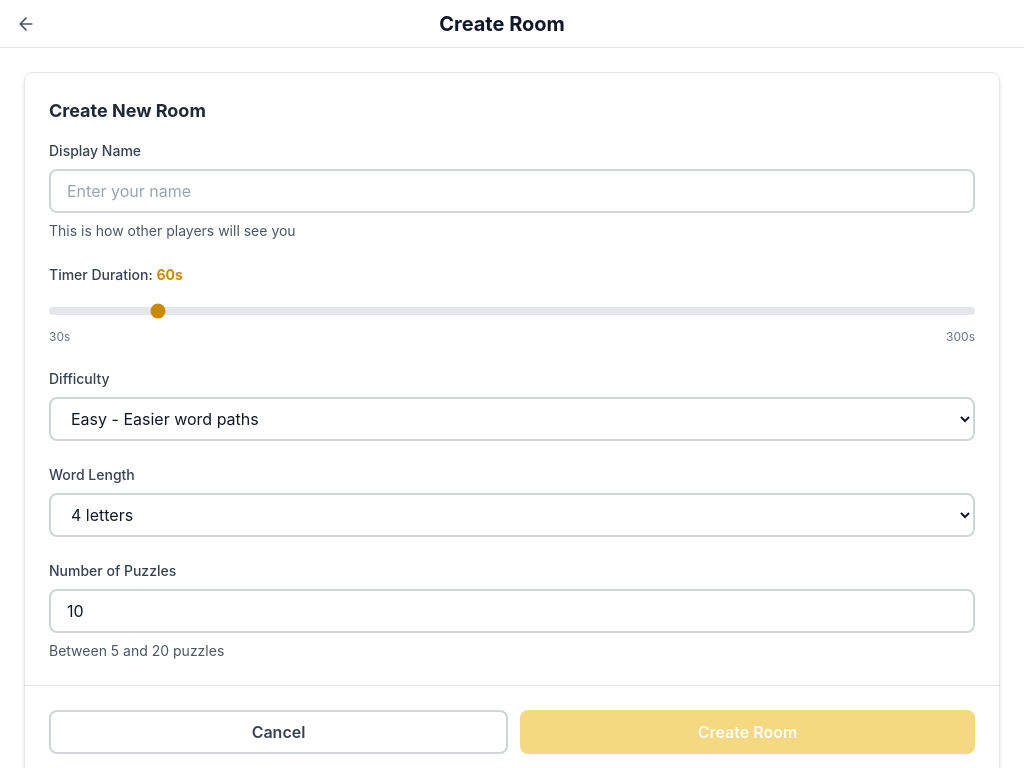
Test: CreateRoomForm › display name validation › enables submit button when display name is provided
Type "Player One" into the field labelled "Display Name" at (512, 191), box [49, 169, 975, 213]
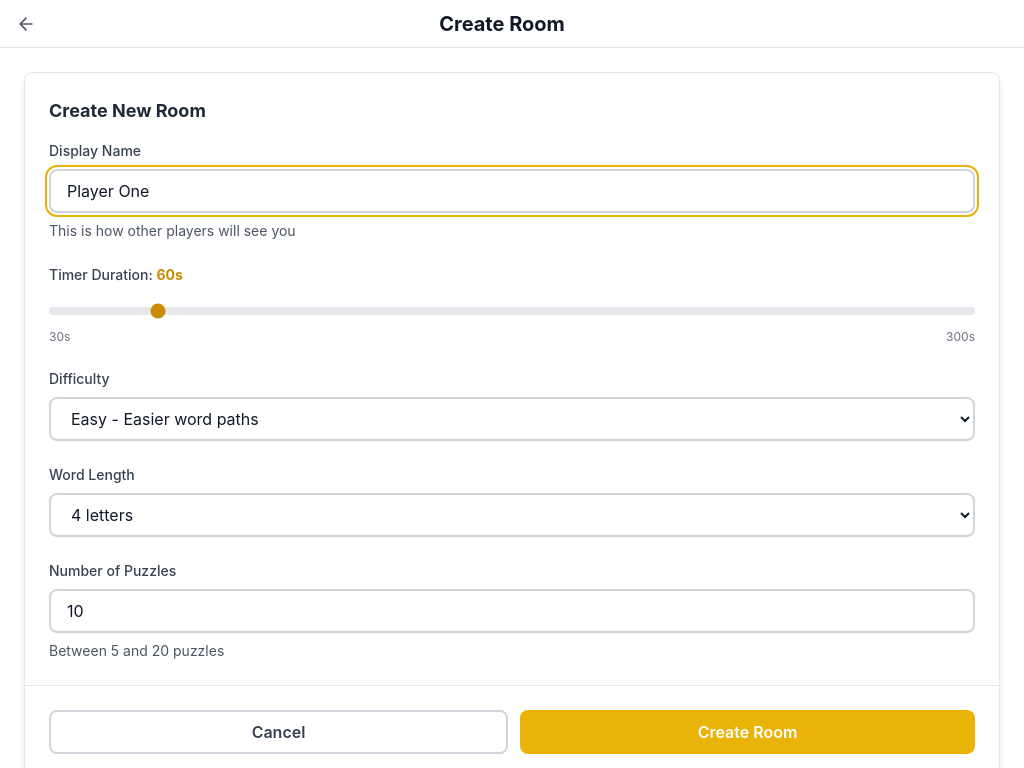
Result: the button "Create Room" is enabled at [520, 710, 975, 754]
